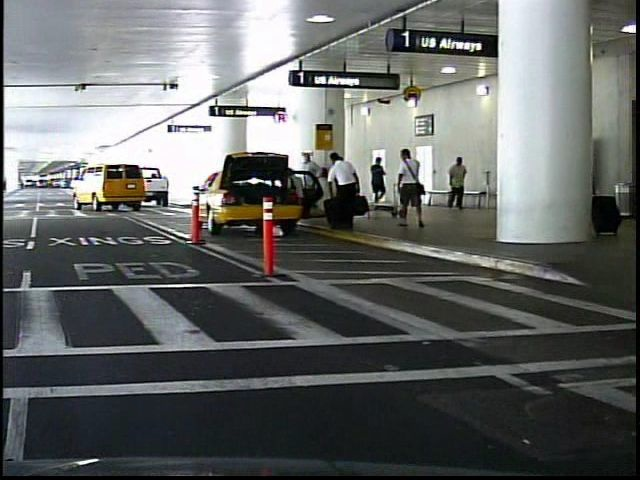person: (391, 145, 427, 231), (442, 152, 465, 214)
